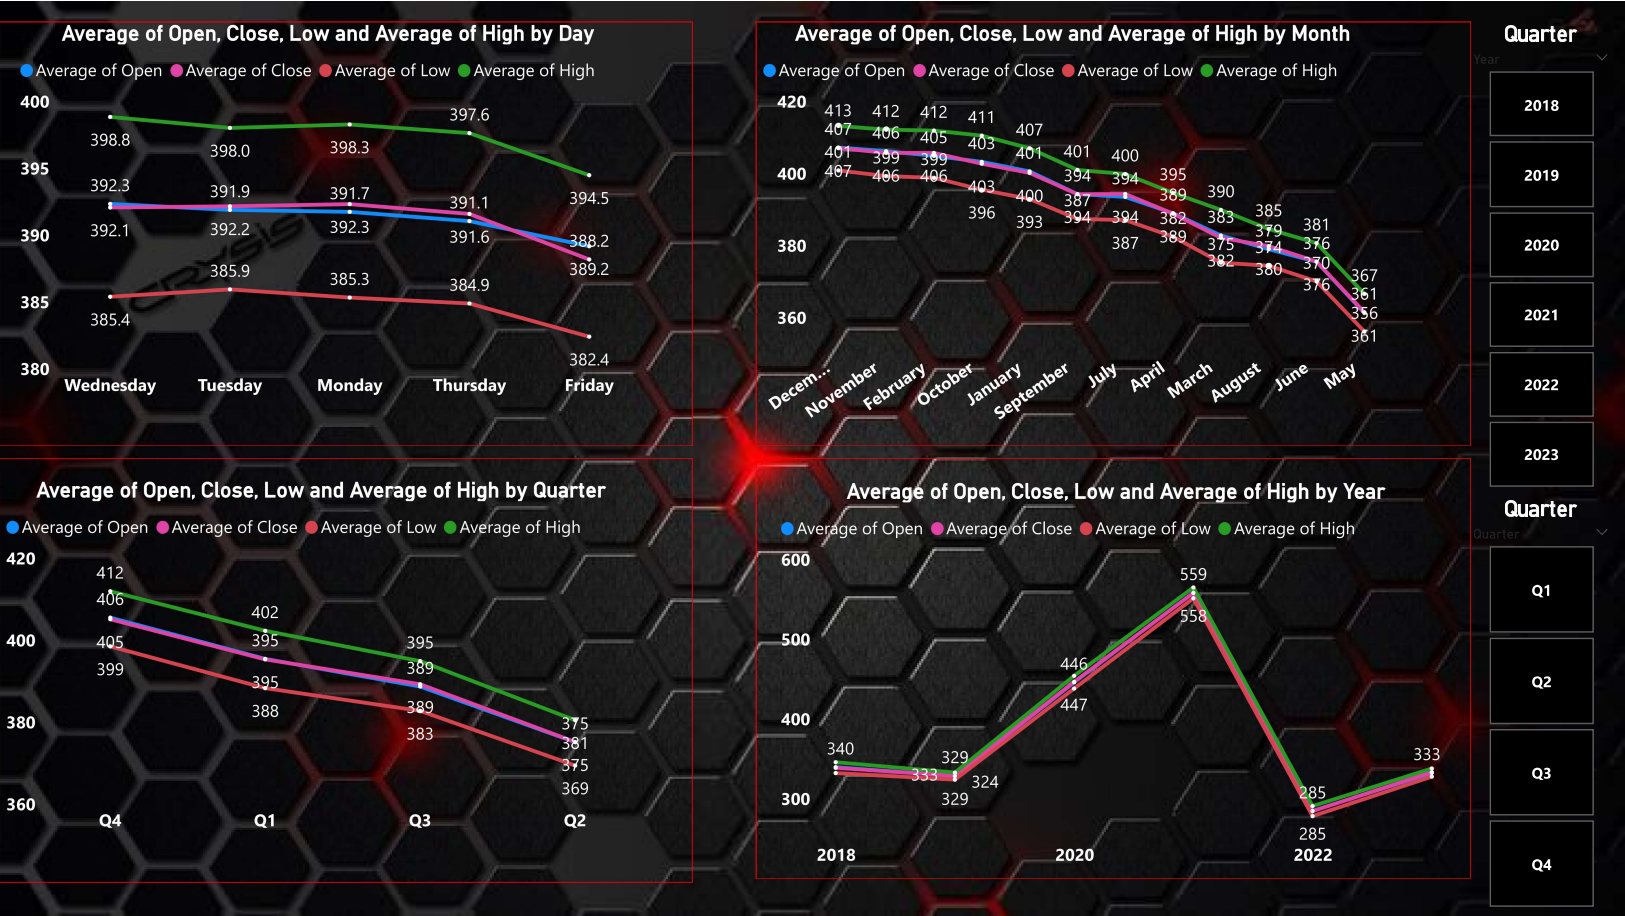

The page's visual inventory and layout, read from the dashboard file:
{"tool":"powerbi","page":{"name":"Page 2","canvas":[1280,720],"ordinal":1},"visuals":[{"type":"lineChart","title":"Average of Open, Close, Low and Average of High by Day","fields":{"Category":["Sheet1.Day"],"Y":["Avg(Sheet1.Open)","Avg(Sheet1.Close)","Avg(Sheet1.Low)","Avg(Sheet1.High)"]},"box":[10.6,15.1,496.3,305.6],"z":0},{"type":"lineChart","title":"Average of Open, Close, Low and Average of High by Month","fields":{"Y":["Avg(Sheet1.Open)","Avg(Sheet1.Close)","Avg(Sheet1.Low)","Avg(Sheet1.High)"],"Category":["Sheet1.Month"]},"box":[596.1,15.1,499.3,334.4],"z":1000},{"type":"slicer","title":"Quarter","fields":{"Values":["Sheet1.Quarter"]},"box":[1148.4,388.8,131.6,331.3],"z":2000},{"type":"lineChart","title":"Average of Open, Close, Low and Average of High by Quarter","fields":{"Y":["Avg(Sheet1.Open)","Avg(Sheet1.Close)","Avg(Sheet1.Low)","Avg(Sheet1.High)"],"Category":["Sheet1.Quarter"]},"box":[0,375.2,506.9,289],"z":3000},{"type":"lineChart","title":"Average of Open, Close, Low and Average of High by Year","fields":{"Y":["Avg(Sheet1.Open)","Avg(Sheet1.Close)","Avg(Sheet1.Low)","Avg(Sheet1.High)"],"Category":["Sheet1.Year"]},"box":[610,375.7,538.6,315.7],"z":4000},{"type":"slicer","title":"Quarter","fields":{"Values":["Sheet1.Year"]},"box":[1148.4,15.1,131.6,373.7],"z":5000},{"type":"shape","box":[595.7,15.7,562.9,334.3],"z":5001},{"type":"shape","box":[0,15.7,545.7,334.3],"z":5002},{"type":"shape","box":[0,360,545.7,334.3],"z":5003},{"type":"shape","box":[595.7,360,562.9,331.4],"z":5004}]}

Visuals, with their boxes in screenshot pixels (x1, y1, x2, y2), scaled from the page's 1280x720 canvas onto the 1625x916 screenshot:
"Average of Open, Close, Low and Average of High by Day" lineChart: (13,19,644,408)
"Average of Open, Close, Low and Average of High by Month" lineChart: (757,19,1391,445)
"Quarter" slicer: (1458,495,1624,915)
"Average of Open, Close, Low and Average of High by Quarter" lineChart: (0,477,644,845)
"Average of Open, Close, Low and Average of High by Year" lineChart: (774,478,1458,880)
"Quarter" slicer: (1458,19,1624,495)
shape: (756,20,1471,445)
shape: (0,20,693,445)
shape: (0,458,693,883)
shape: (756,458,1471,880)
